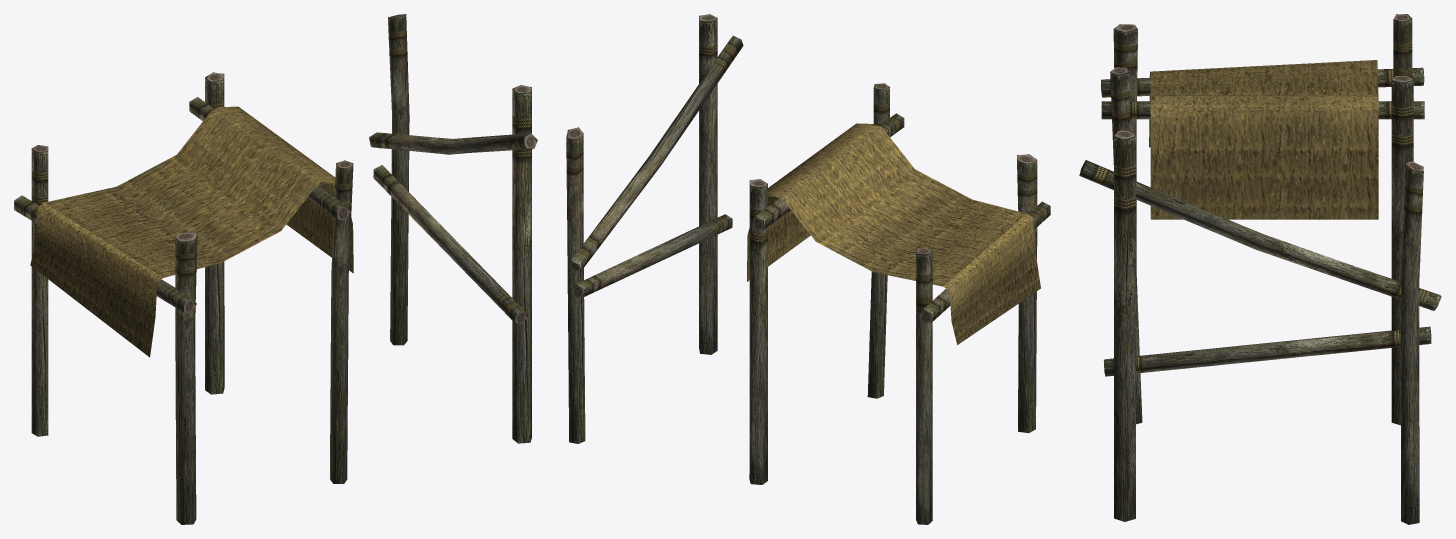
The model's file is thing_hake_01.fbx.
The picture shows the model from 3 angles, left to right: view 1: azimuth 30°, elevation 25°; view 2: azimuth 150°, elevation 25°; view 3: azimuth 270°, elevation 25°; orthographic projection. The views are drawn at different scales.
Parts seen in each view (by area): view 1: thing_hake_01; view 2: thing_hake_01; view 3: thing_hake_01.
Boxes of the visible parts, x1,y1,x2,y2 form: thing_hake_01: (14, 14, 537, 524); thing_hake_01: (566, 14, 1050, 524); thing_hake_01: (1079, 14, 1441, 524).
Size of the model in its own units: 5.65 by 4.8 by 4.12.
